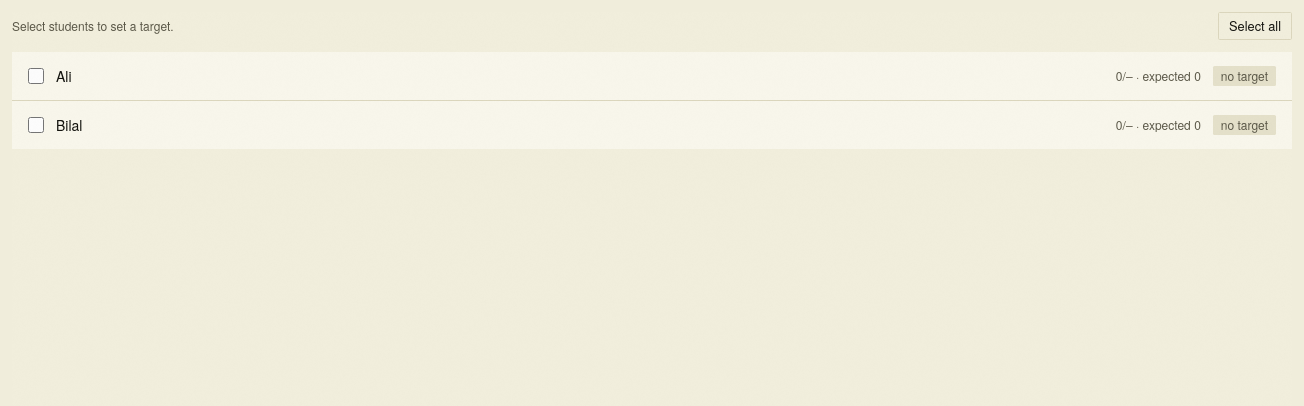
HifzRegister — selection › counts the selection and clears it
Click the checkbox named "Select Ali" at (36, 76), box [28,68,44,84]
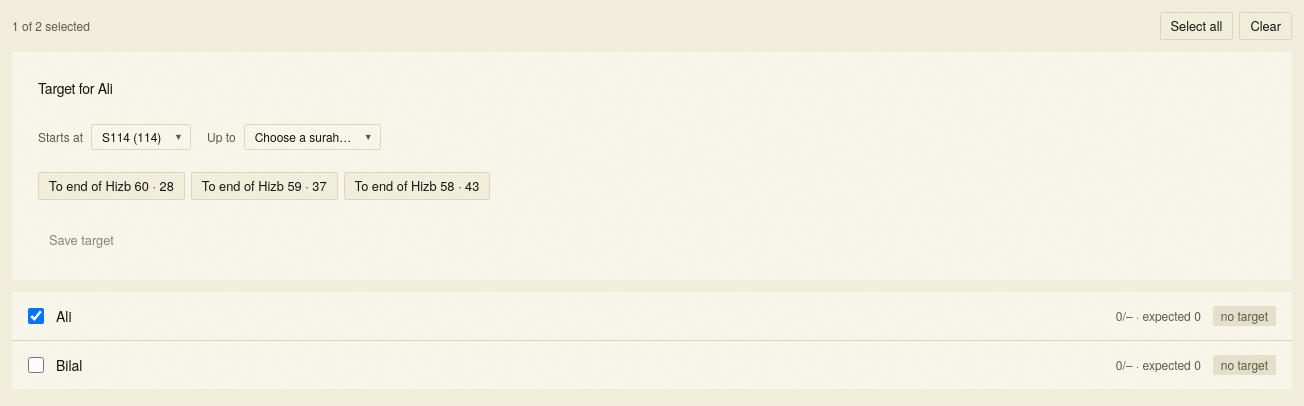
Expected: the text "1 of 2 selected" is shown, [12,18,90,34]
Click the button "Clear" at (1266, 26), box [1239,12,1292,40]
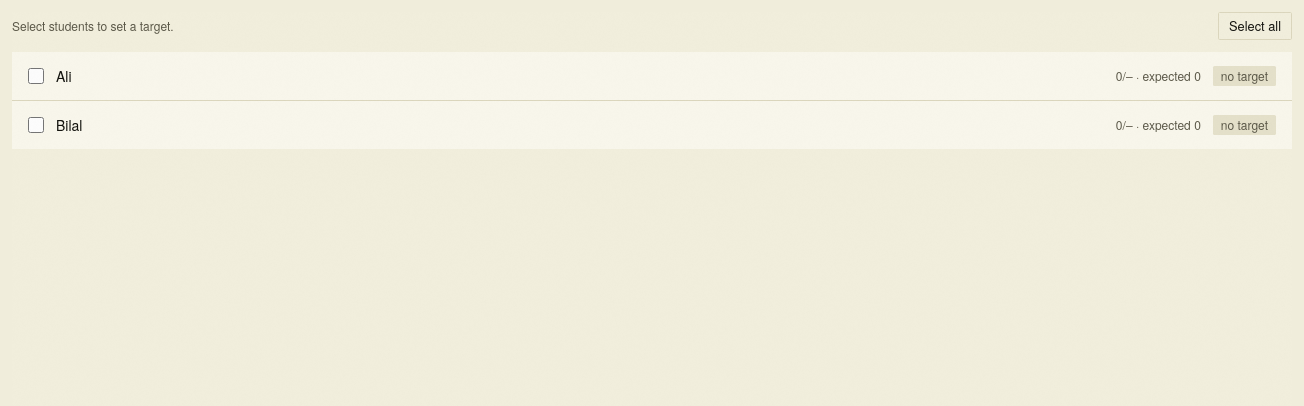
Expected: the text "Select students to set a target." is shown, [12,18,174,34]
